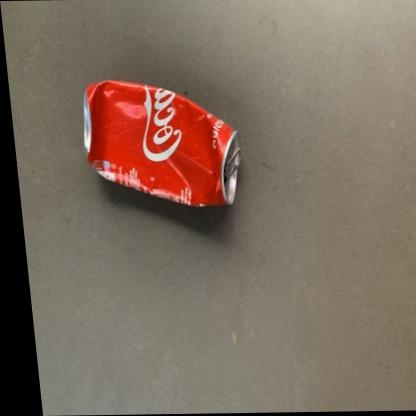trash: (83, 81, 239, 206)
